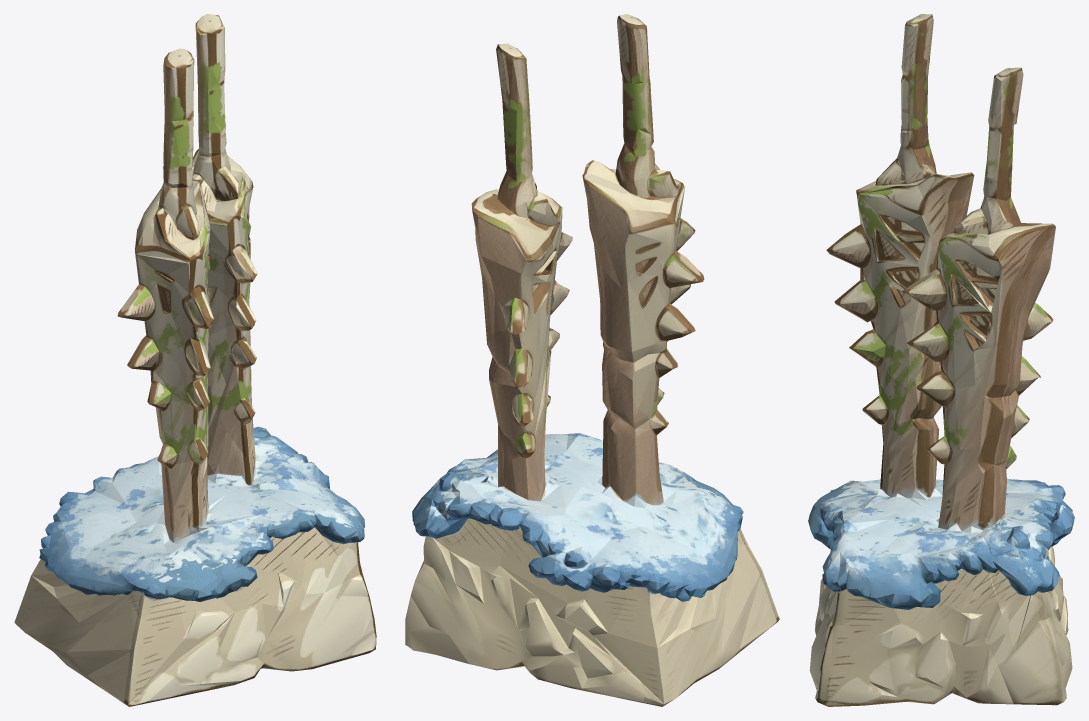
The model's file is doble.glb.
3 views of the same model, side by side, from view 1: azimuth 30°, elevation 25°; view 2: azimuth 150°, elevation 25°; view 3: azimuth 270°, elevation 25° (orthographic). The views are drawn at different scales.
Visible parts, largest first — view 1: output_unwrapped; view 2: output_unwrapped; view 3: output_unwrapped.
Boxes of the visible parts, x1,y1,x2,y2 form: output_unwrapped: (14, 14, 376, 706); output_unwrapped: (405, 14, 779, 706); output_unwrapped: (808, 14, 1074, 706).
Bounding box in the file's own units: 0.8842 × 1.9 × 0.7414.
1 material, 1 textured.
